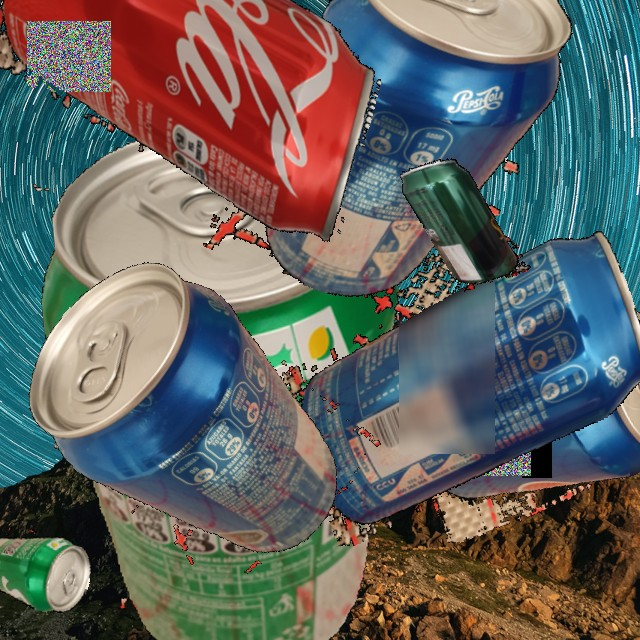coca cola: (0, 0, 441, 266)
pepsi: (175, 0, 633, 375), (0, 241, 388, 577), (258, 212, 640, 548), (387, 282, 640, 546)
schweppes: (391, 137, 532, 306)
sprite: (30, 111, 417, 640), (0, 515, 101, 623)
